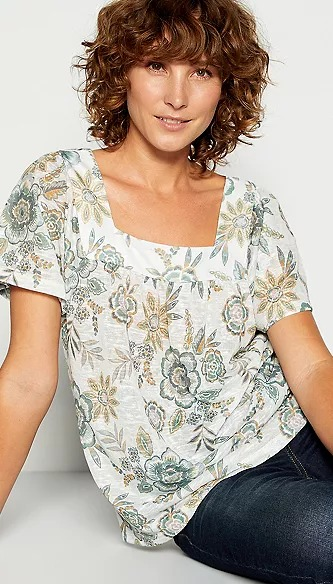C_short blouse: (2, 147, 317, 547)
